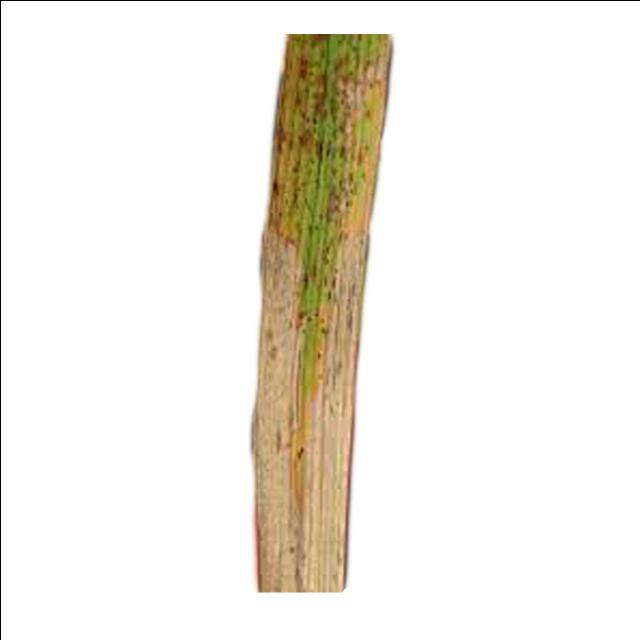Leaf scald: (129, 6, 502, 609)
